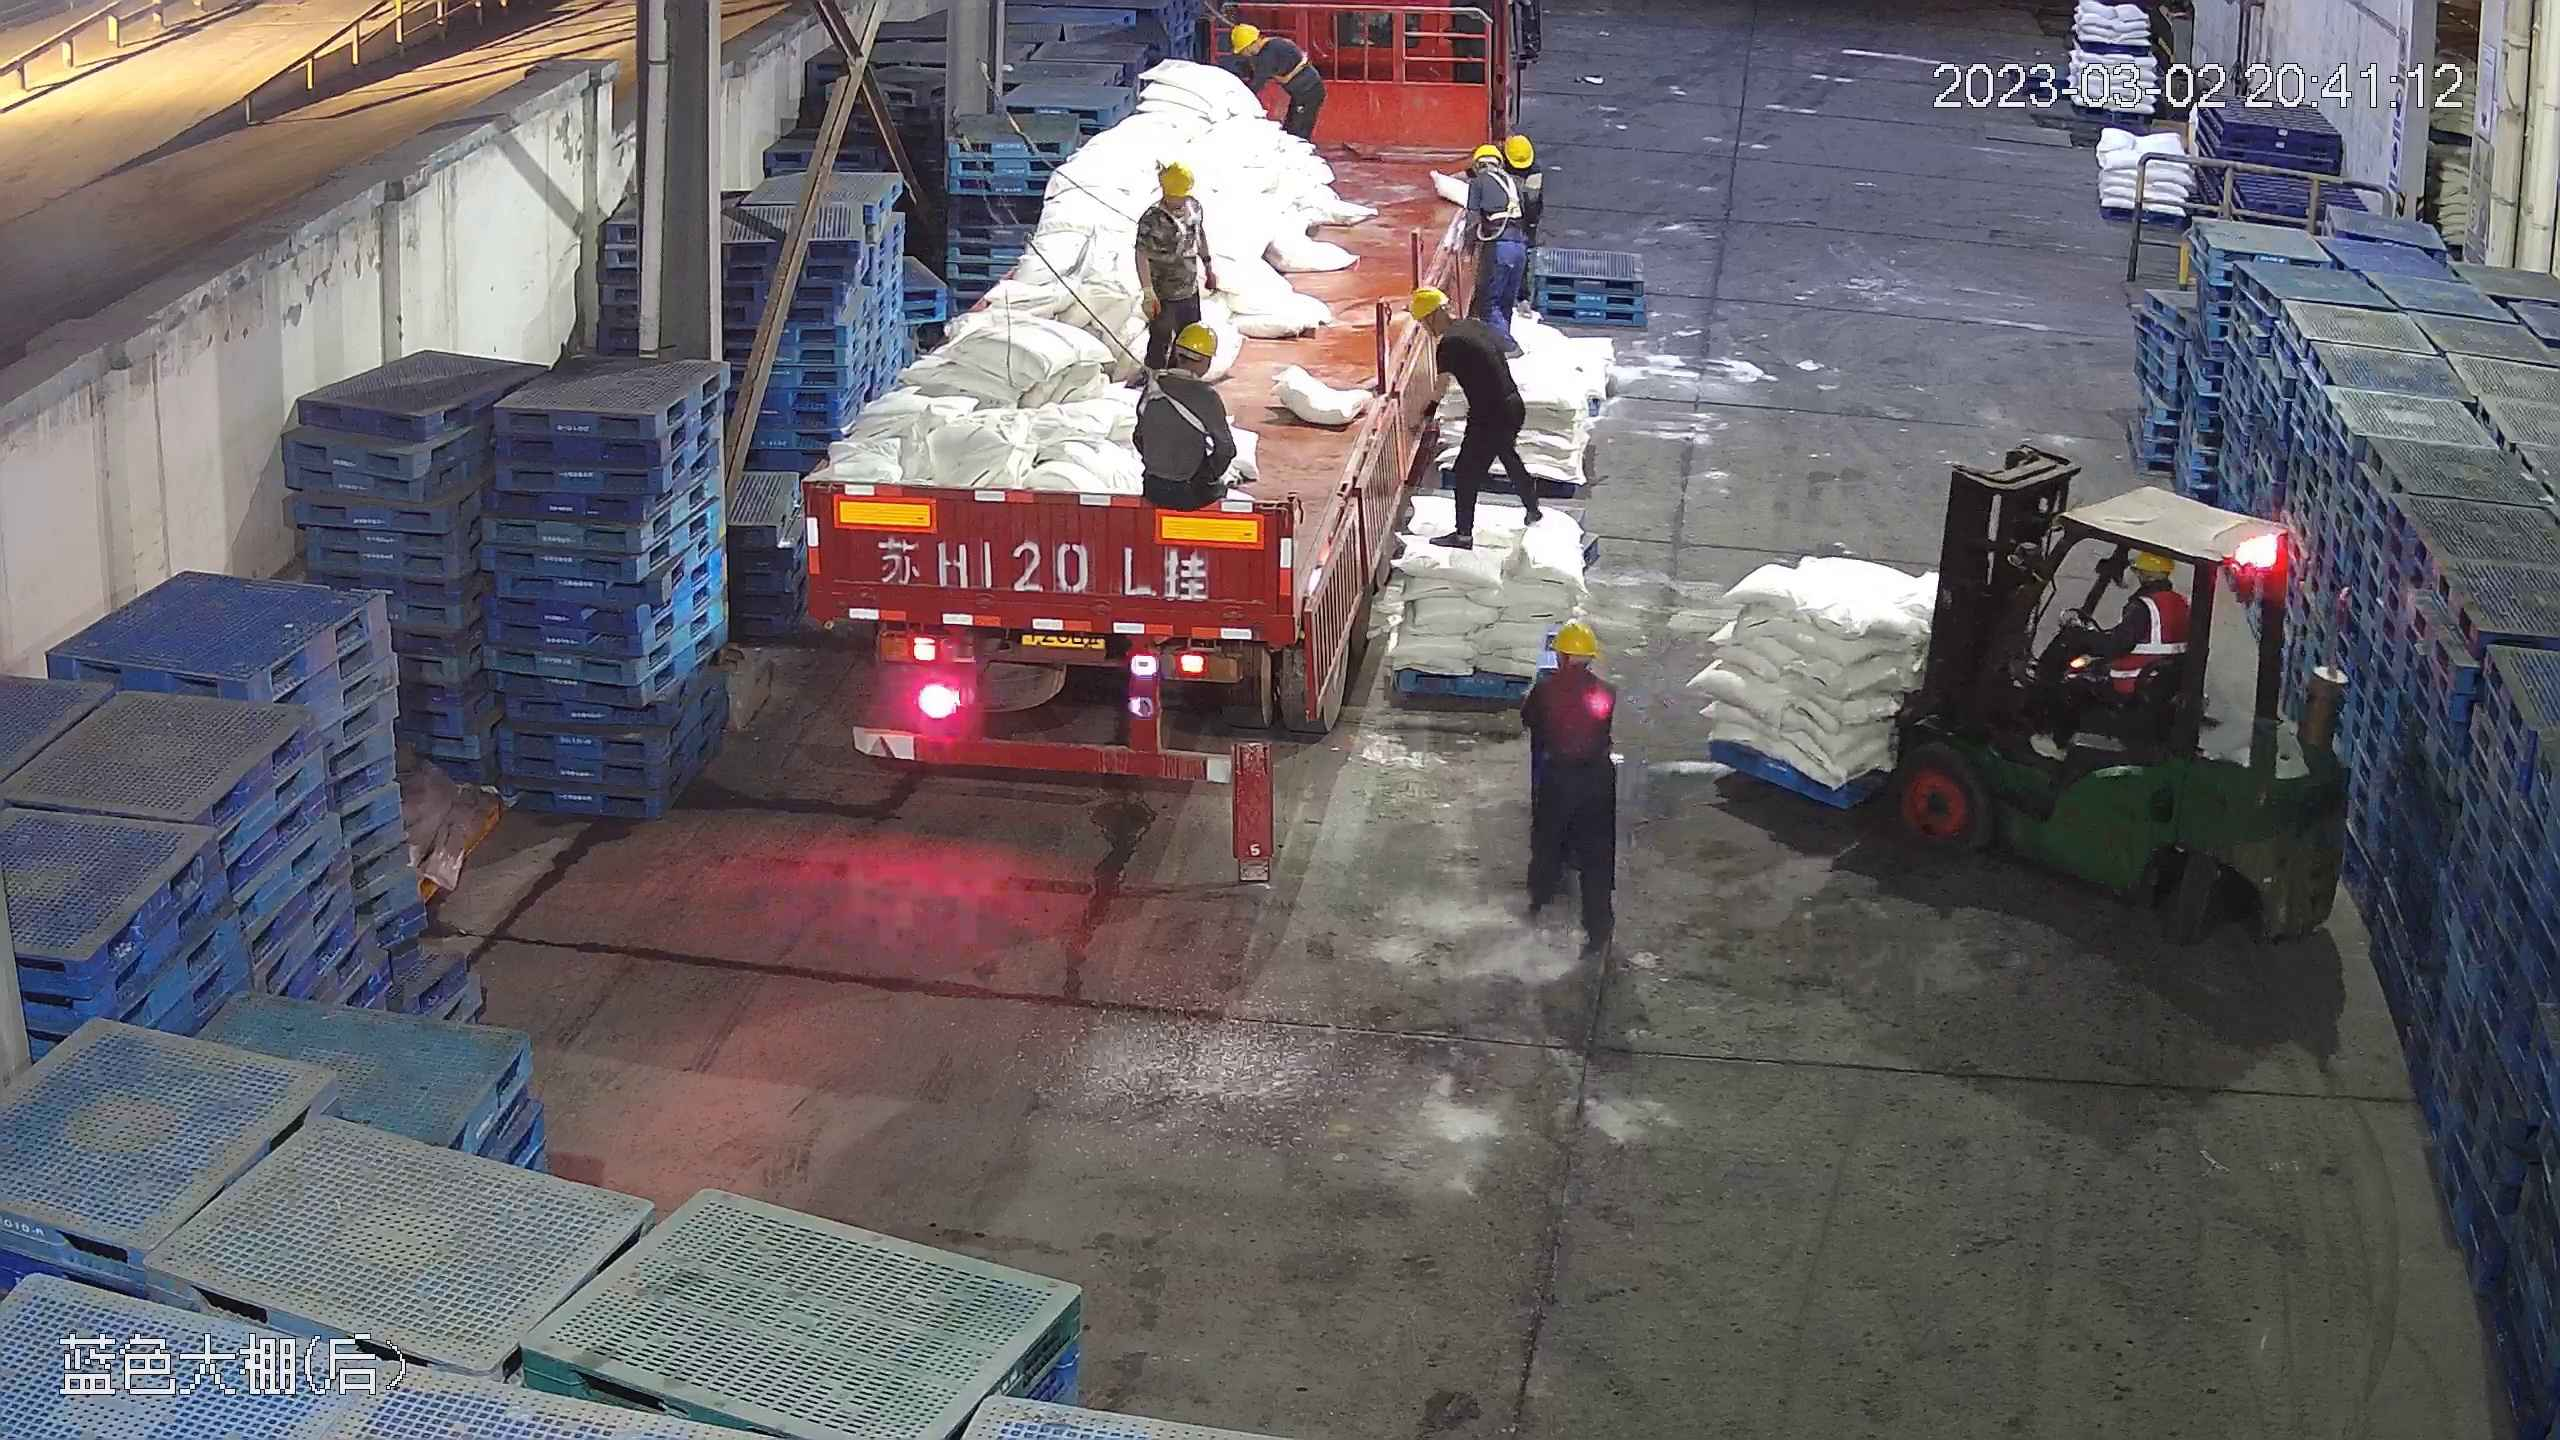belt: (1133, 347, 1232, 471), (1140, 159, 1209, 247), (1471, 158, 1532, 226), (1150, 203, 1198, 256), (1260, 33, 1308, 81)
head: (1522, 619, 1613, 728), (1141, 320, 1233, 411), (2106, 545, 2194, 639), (1405, 284, 1498, 367), (1137, 157, 1209, 237), (1459, 142, 1528, 211), (1230, 23, 1298, 72)
helmet: (1140, 157, 1207, 233), (1544, 619, 1602, 658), (1171, 319, 1222, 359), (1407, 284, 1451, 325), (1153, 157, 1195, 197), (2129, 545, 2174, 580), (1498, 134, 1534, 167), (1228, 23, 1260, 55), (1470, 142, 1503, 170)
people: (1515, 617, 1626, 968), (1401, 286, 1540, 552), (2058, 541, 2197, 726), (1127, 319, 1245, 522), (1131, 157, 1220, 380), (1453, 135, 1543, 353), (1229, 22, 1329, 147)
truck: (784, 14, 1532, 776)
